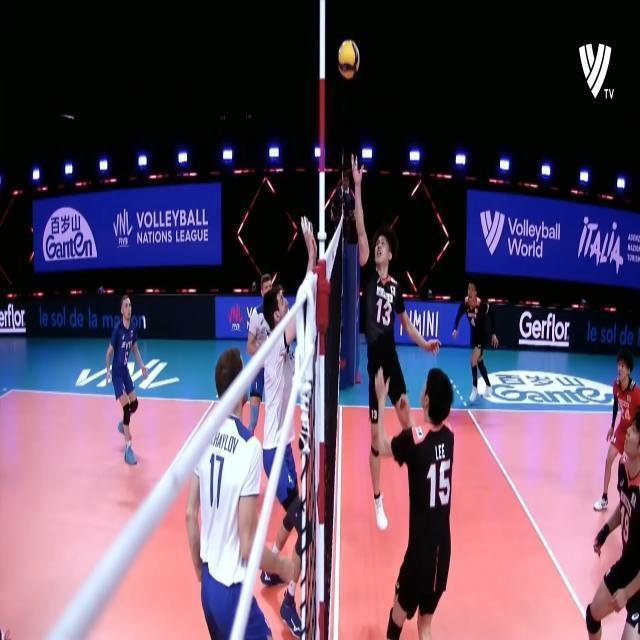volleyball: (339, 40, 360, 78)
